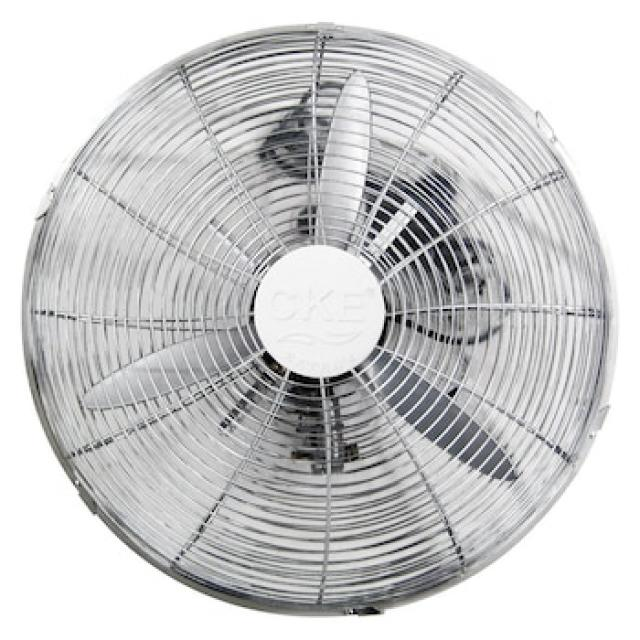fan: (11, 3, 628, 622)
